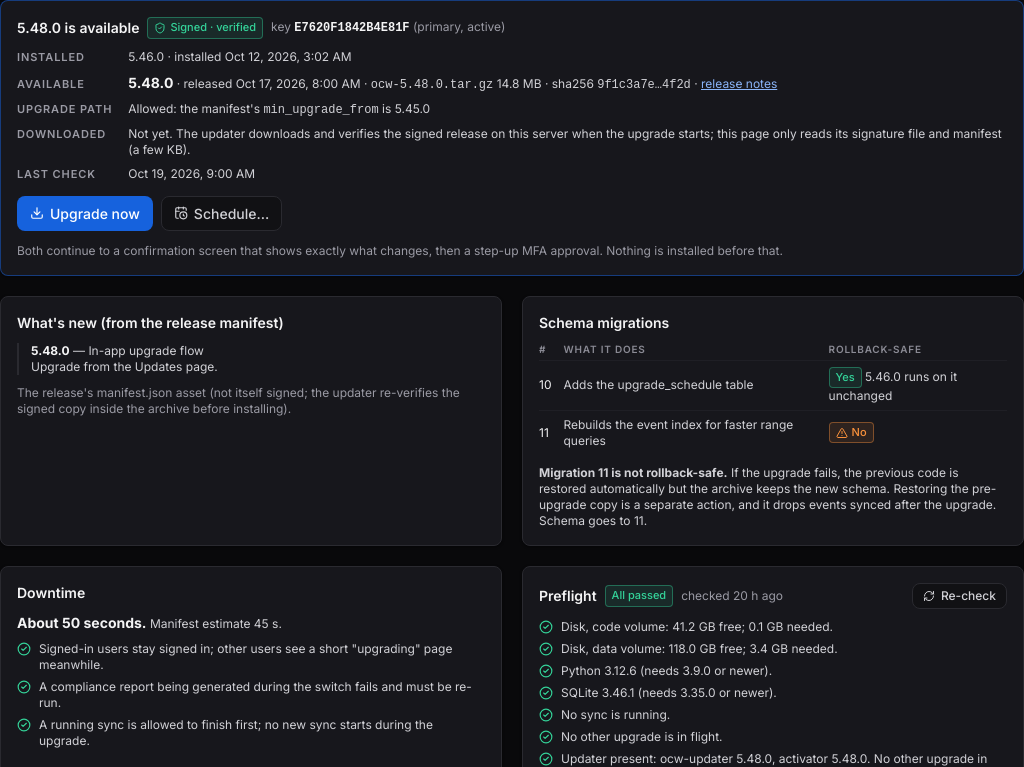
04 schedule dialog › the hint button uses the quiet slot after the daily sync
This screenshot has width=1024, height=767.
Click the button "Schedule…": (222, 213) [161,196,282,231]
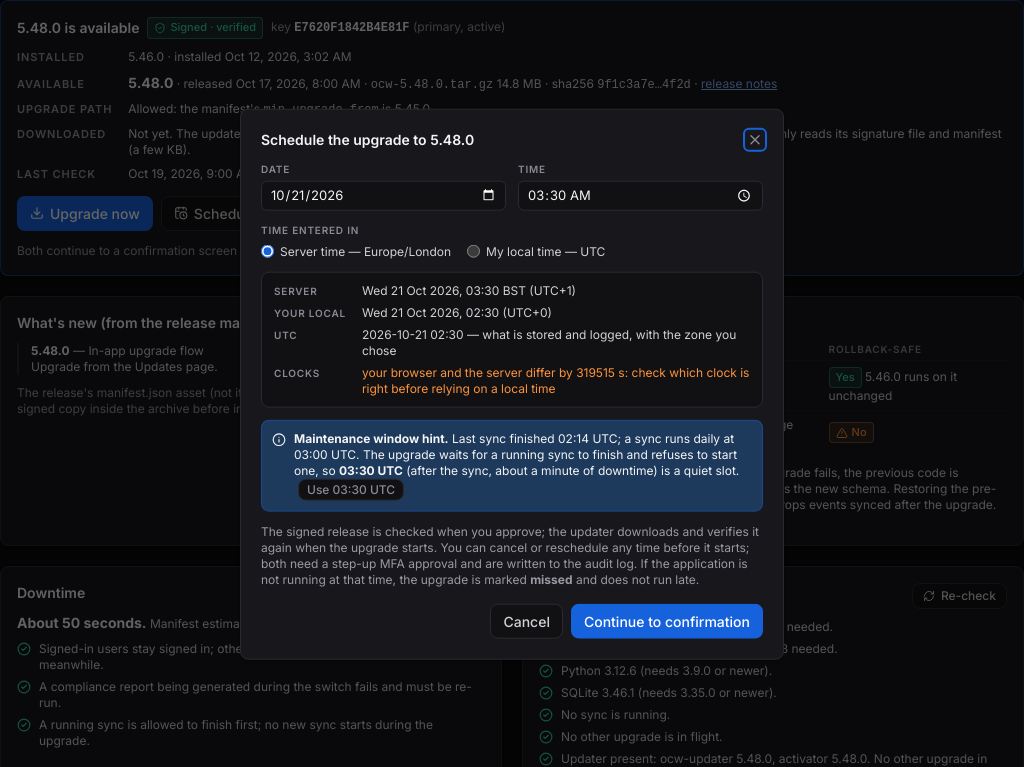
Click the button "Use 03:30 UTC": (351, 489) [298,478,404,500]
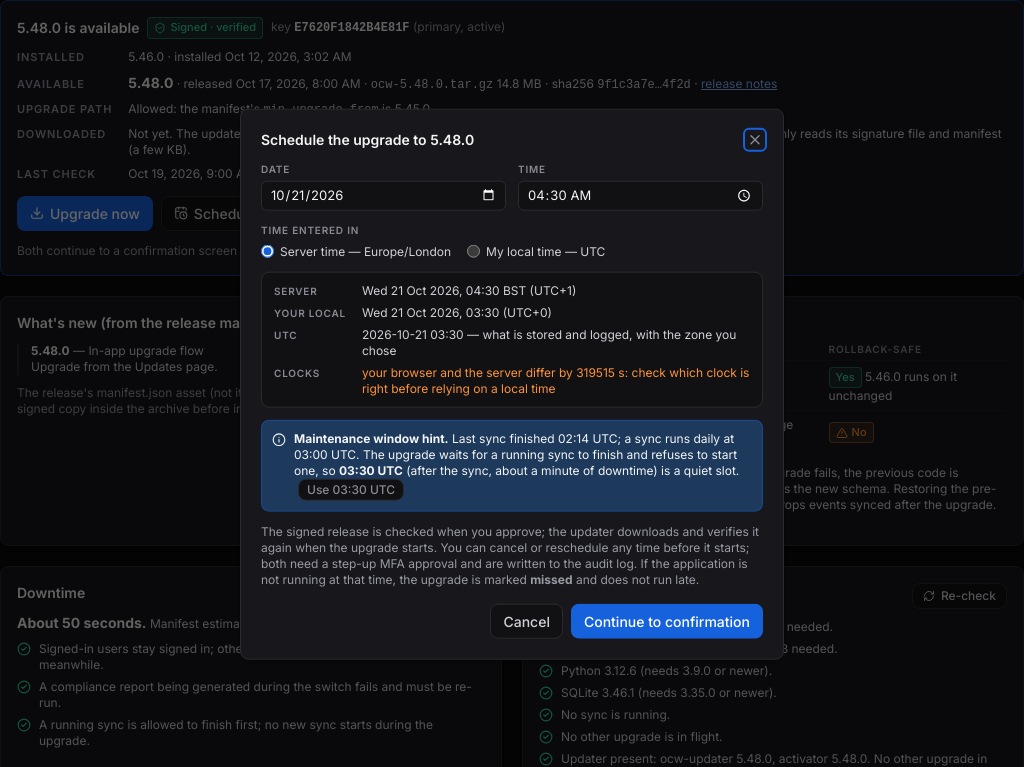
Now the time field labelled "Time" holds "04:30", box [518,181,763,210]
